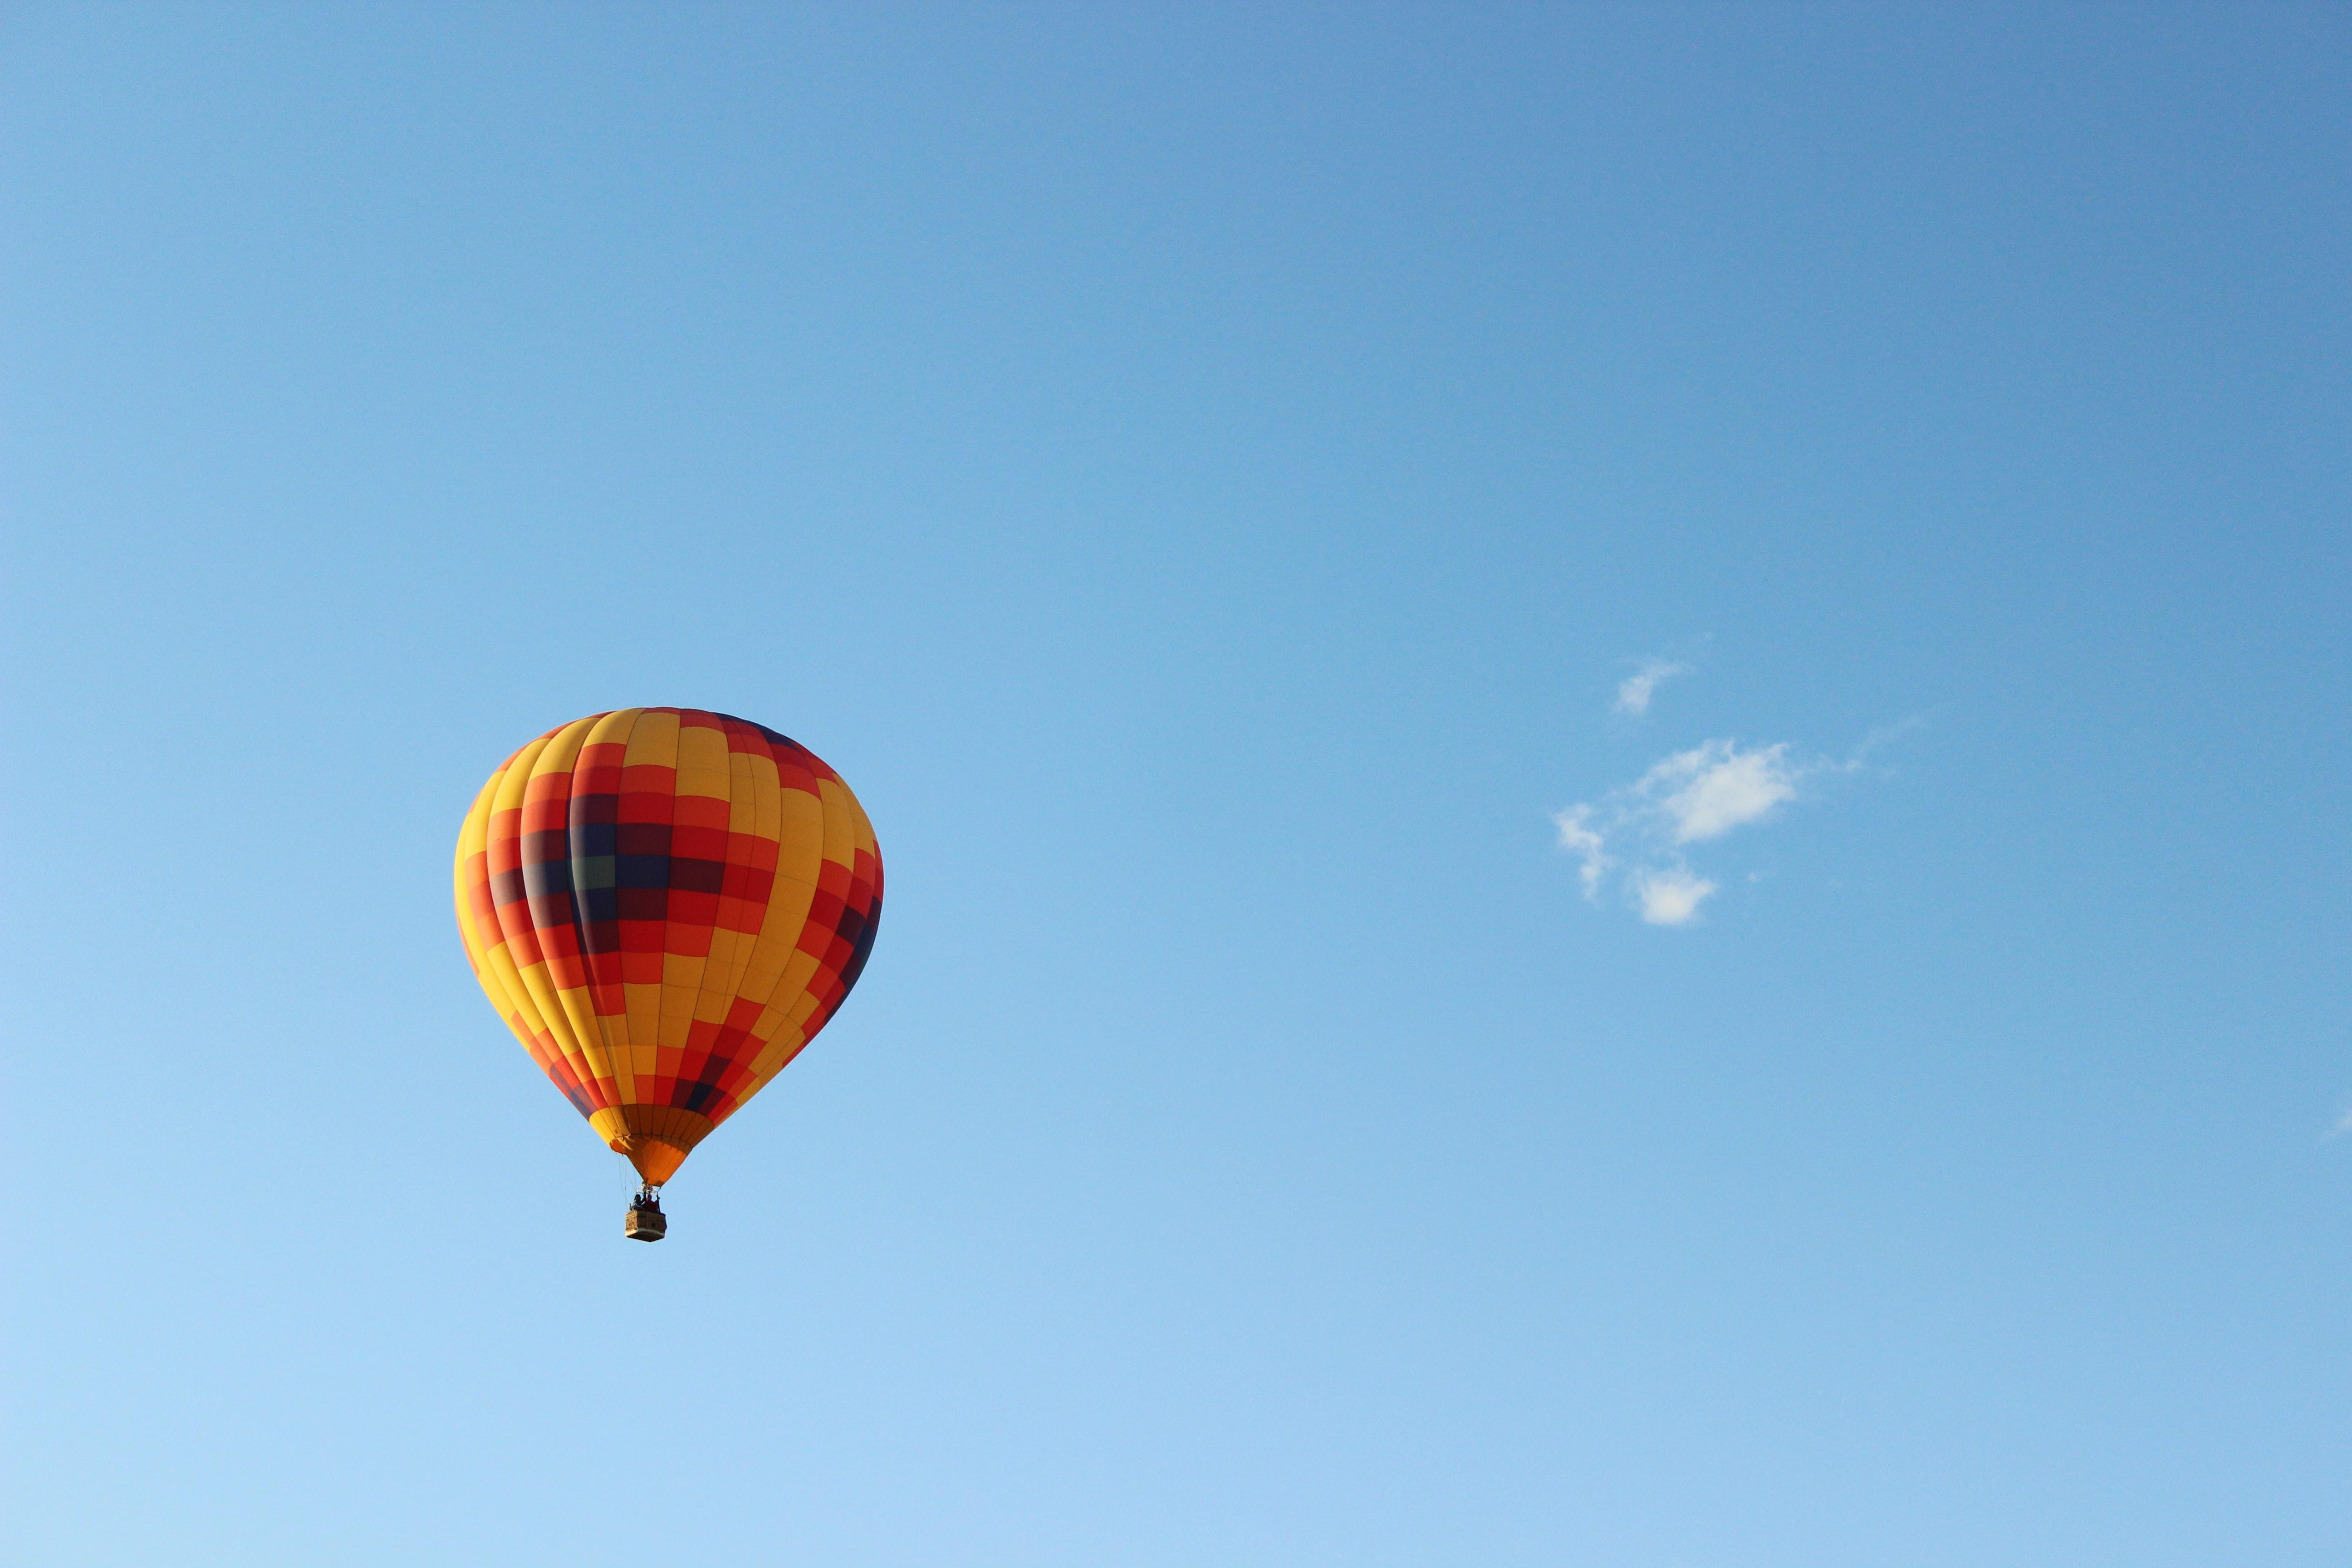hot air ballon: (457, 707, 882, 1246)
